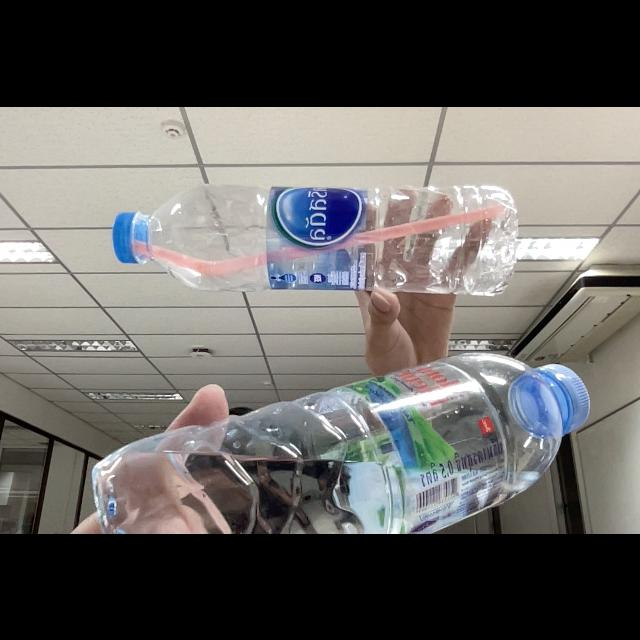plastic_bottle: (89, 341, 595, 533), (109, 174, 535, 310)
plastic_bottle_cap: (512, 362, 590, 436), (112, 210, 150, 266)
straw: (131, 201, 507, 273)
